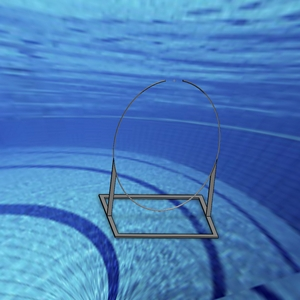circle: (97, 77, 222, 239)
